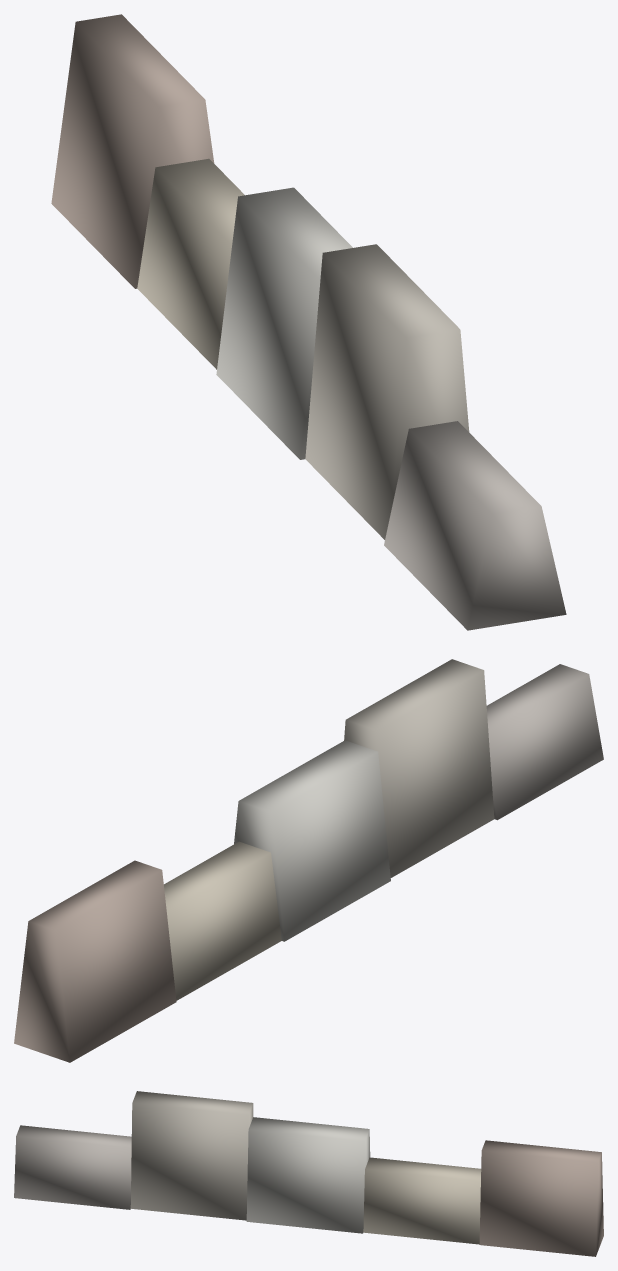
Rendered from farm_-58_-55_collision.glb.
3 renders of one model, top to bottom at view 1: azimuth 30°, elevation 25°; view 2: azimuth 150°, elevation 25°; view 3: azimuth 270°, elevation 25°, orthographic. The views are drawn at different scales.
Parts seen in each view (by area): view 1: geometry_0; view 2: geometry_0; view 3: geometry_0.
Boxes of the visible parts, x1=… form: geometry_0: x1=51, y1=14, x2=566, y2=630; geometry_0: x1=14, y1=659, x2=603, y2=1062; geometry_0: x1=14, y1=1091, x2=603, y2=1256.
Size of the model in its own units: 1.96 by 1.75 by 7.96.
